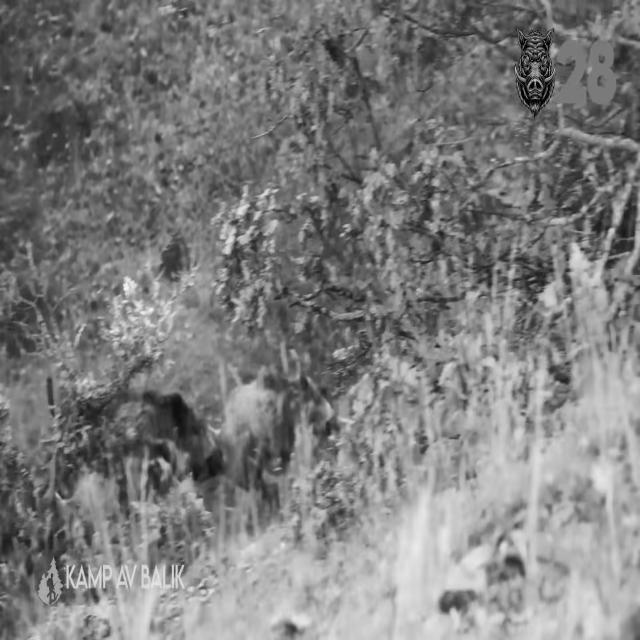boar: (222, 368, 334, 489), (116, 391, 222, 500), (516, 27, 557, 116)
